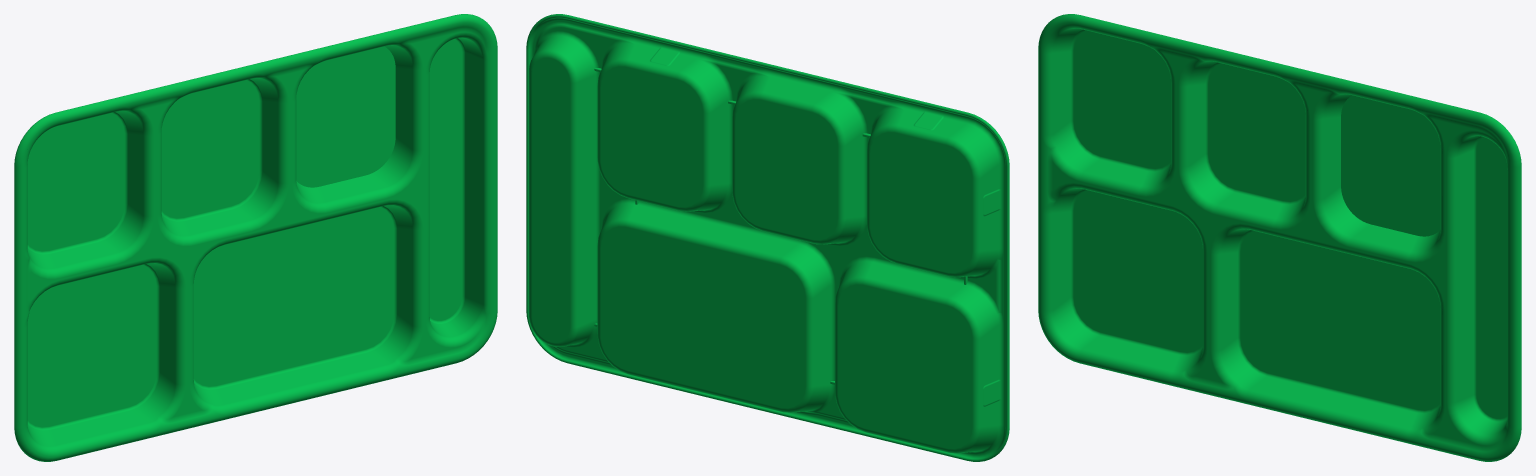
File: Tepsi.glb
3 renders of one model, left to right at view 1: azimuth 30°, elevation 25°; view 2: azimuth 150°, elevation 25°; view 3: azimuth 330°, elevation 25°, orthographic.
Parts seen in each view (by area): view 1: Tepsi; view 2: Tepsi; view 3: Tepsi.
Part boxes in pixels (box(x1,y1,x2,y2)): Tepsi: box(14, 14, 497, 461); Tepsi: box(526, 14, 1009, 461); Tepsi: box(1038, 14, 1521, 461).
Size of the model in its own units: 0.3661 by 0.2521 by 0.0237.
